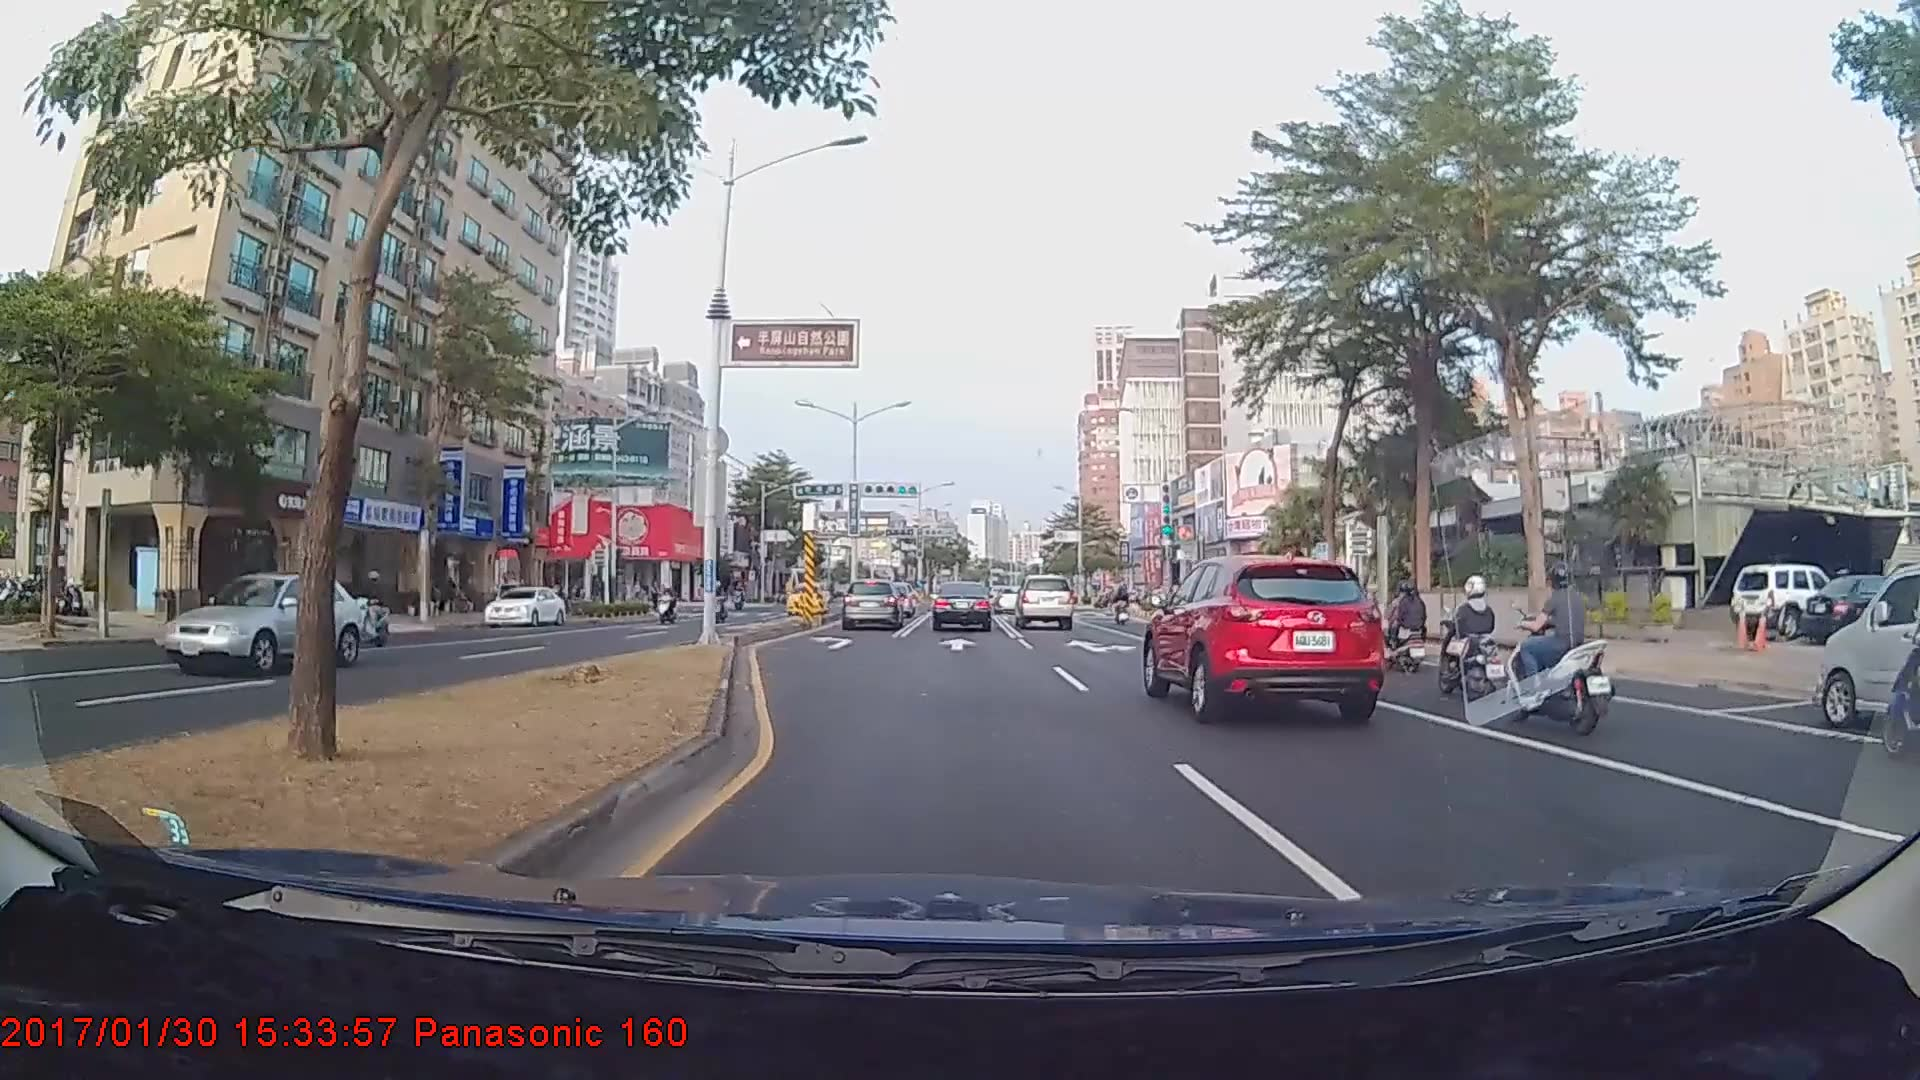rider: (1500, 562, 1619, 738), (1430, 570, 1511, 696), (1372, 571, 1431, 675), (346, 569, 400, 649), (650, 576, 685, 630)
vehicle: (1147, 548, 1385, 720), (163, 567, 362, 681), (1815, 558, 1918, 727), (1730, 563, 1837, 635), (484, 583, 564, 629), (840, 578, 906, 631), (1014, 574, 1075, 630), (930, 579, 992, 632), (784, 580, 829, 614)
